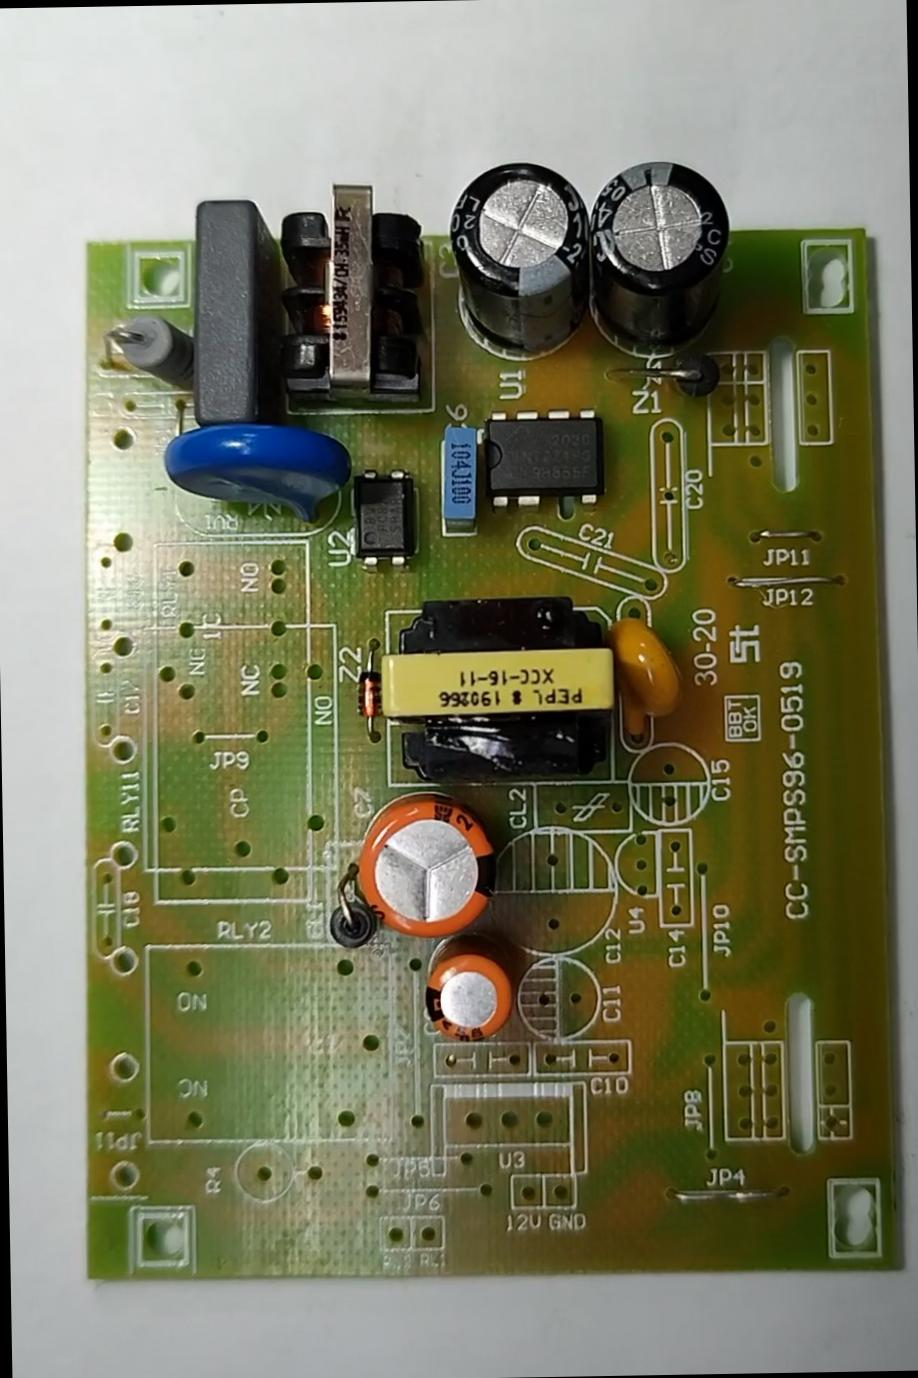Cap1: (330, 789, 514, 943)
Cap2: (408, 932, 525, 1052)
Cap3: (431, 152, 602, 371)
Cap4: (574, 149, 755, 376)
MOSFET: (455, 396, 630, 523)
Mov: (149, 410, 361, 542)
Resistor: (110, 300, 203, 387)
Transformer: (369, 591, 622, 796), (263, 173, 428, 417)
